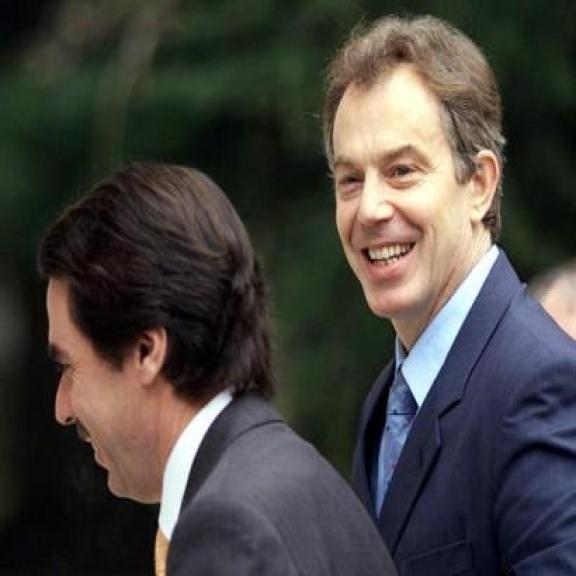face: (327, 57, 500, 328), (44, 248, 180, 514)
